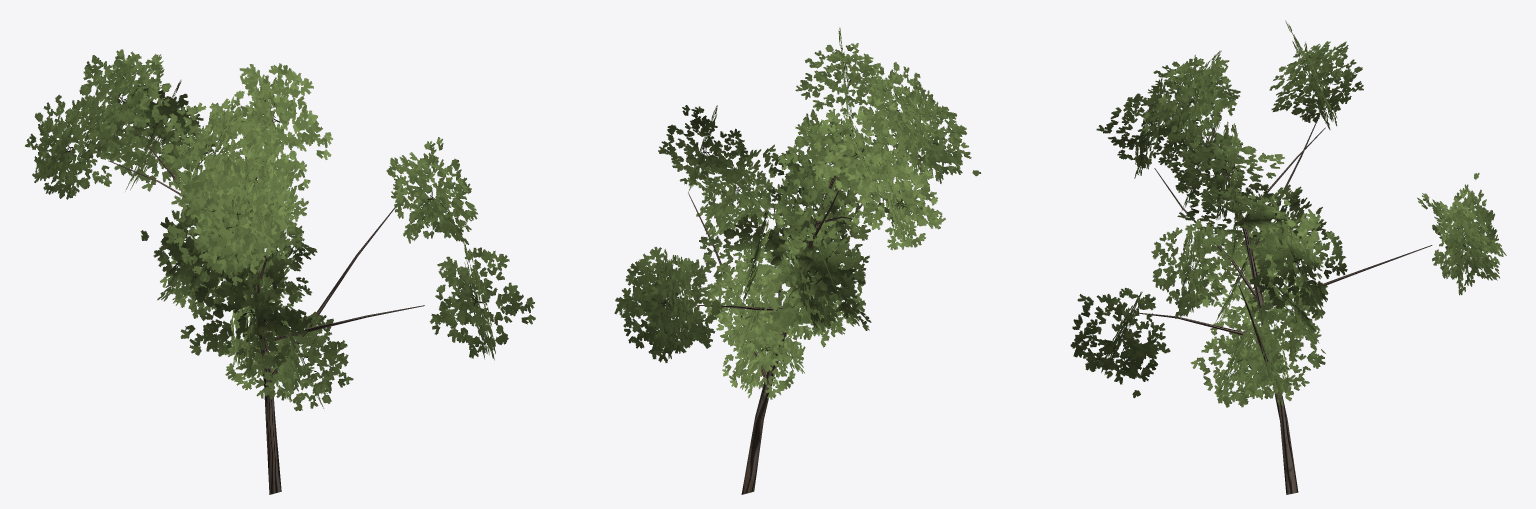
File: sapling-b.lod1.glb
3 views of the same model, side by side, from view 1: azimuth 30°, elevation 25°; view 2: azimuth 150°, elevation 25°; view 3: azimuth 270°, elevation 25° (orthographic). The views are drawn at different scales.
Parts seen in each view (by area): view 1: foliage, bark; view 2: foliage, bark; view 3: foliage, bark.
Boxes of the visible parts, left/top/right/bottom form: foliage: left=25, top=49, right=535, bottom=410; bark: left=108, top=131, right=424, bottom=494; foliage: left=614, top=27, right=981, bottom=399; bark: left=688, top=118, right=882, bottom=494; foliage: left=1070, top=20, right=1506, bottom=407; bark: left=1133, top=115, right=1432, bottom=494.
Bounding box in the file's own units: 1.16 × 1.3 × 1.3.
Materials: 2 (2 with a texture image).
